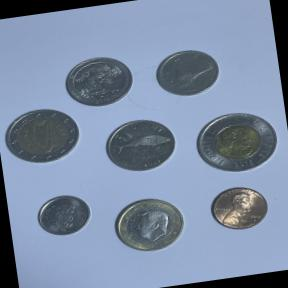1 Euro-B: (103, 190, 196, 264)
2 Euro-B: (0, 100, 86, 170)
Canada-10cent-B: (30, 186, 97, 243)
Canada-2Dollar-B: (185, 103, 285, 182)
Croatia-2Kune-B: (96, 110, 182, 180)
US-1cent-B: (201, 178, 277, 240)
US-25cent-B: (58, 48, 138, 112)
